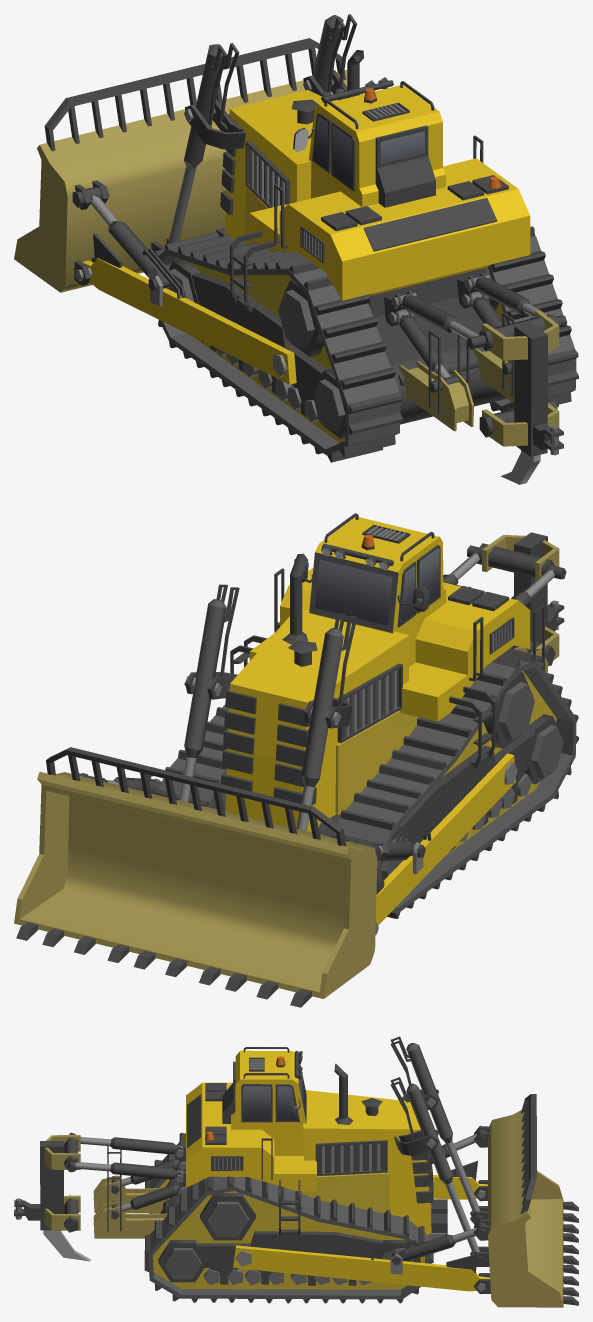
Rendered from dozer.glb.
The picture shows the model from 3 angles, top to bottom: view 1: azimuth 30°, elevation 25°; view 2: azimuth 150°, elevation 25°; view 3: azimuth 270°, elevation 25°; orthographic projection. The views are drawn at different scales.
Visible parts, largest first — view 1: Body_1; view 2: Body_1; view 3: Body_1.
Part boxes in pixels (x1,y1,x2,y2): Body_1: [14, 14, 578, 484]; Body_1: [14, 513, 578, 1007]; Body_1: [14, 1036, 578, 1307].
Bounding box in the file's own units: 5.14 × 4.71 × 11.48.
1 material, 1 textured.
